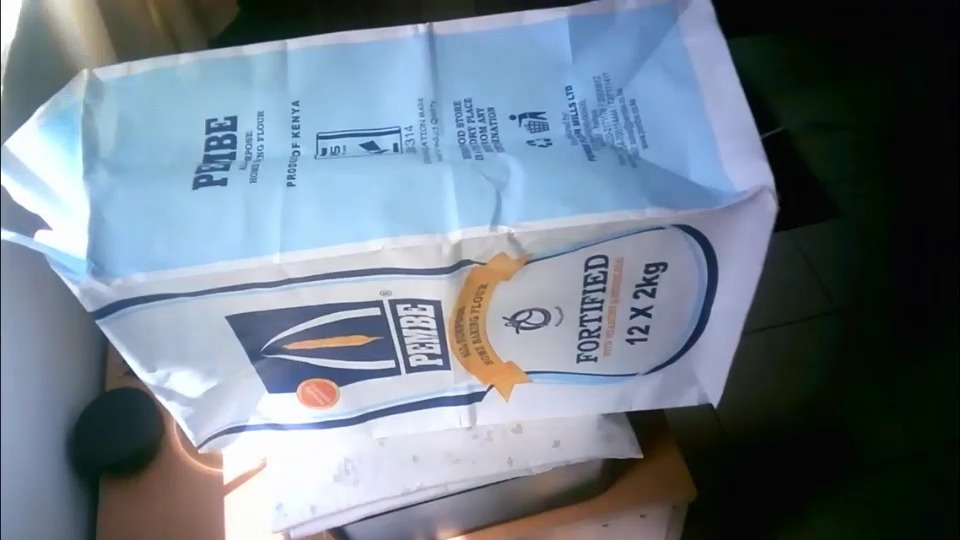wheat_flour_blue_label: (23, 2, 778, 451)
